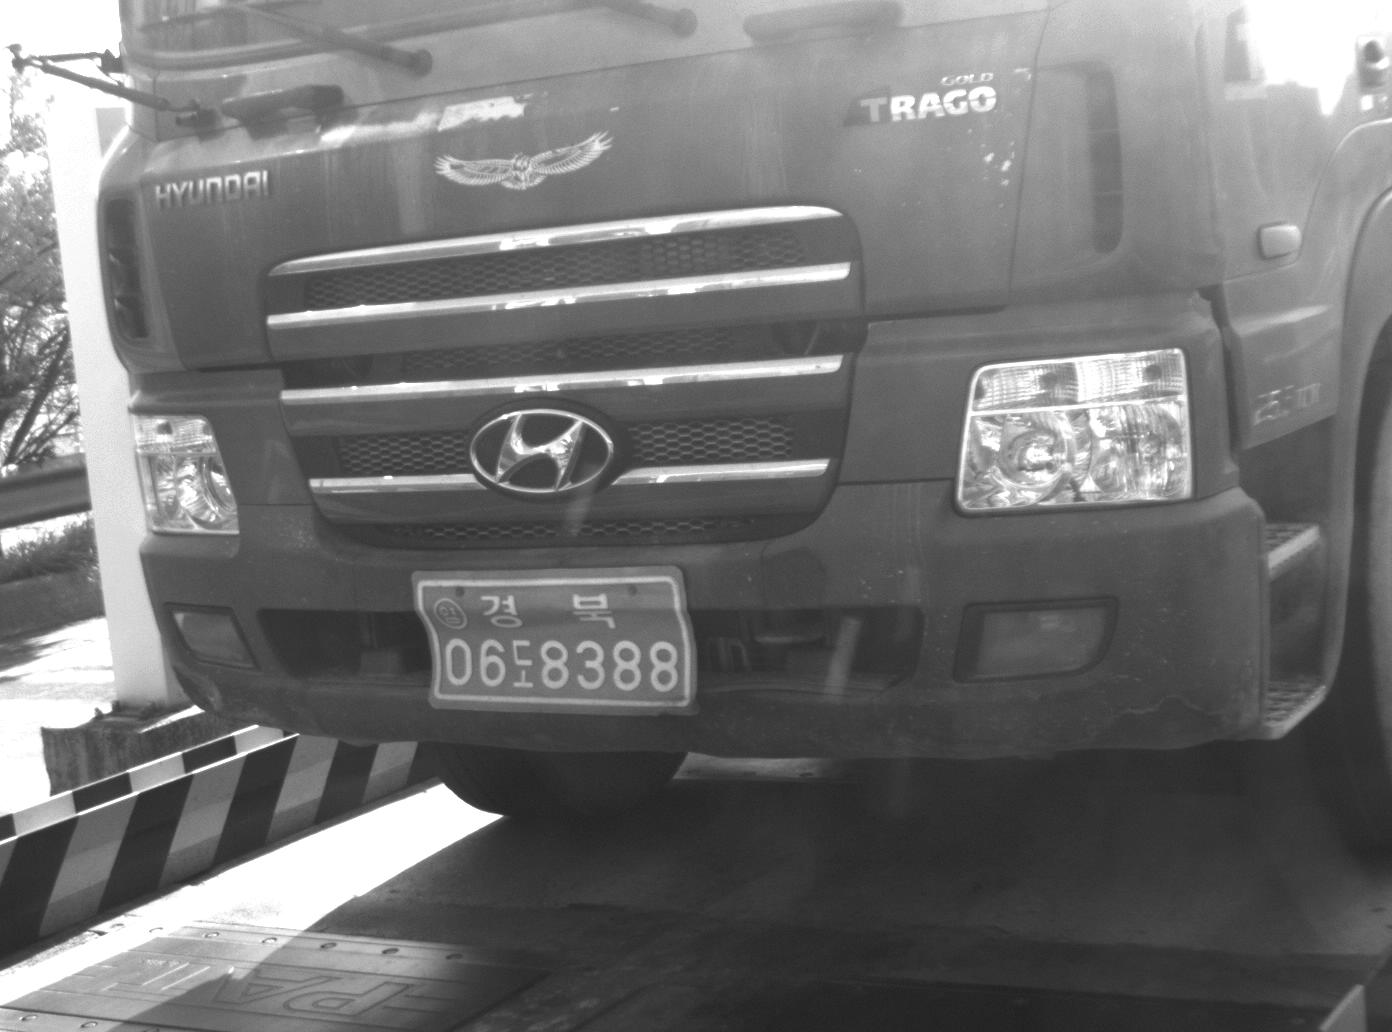car: (89, 2, 1392, 830)
plate: (405, 562, 701, 721)
